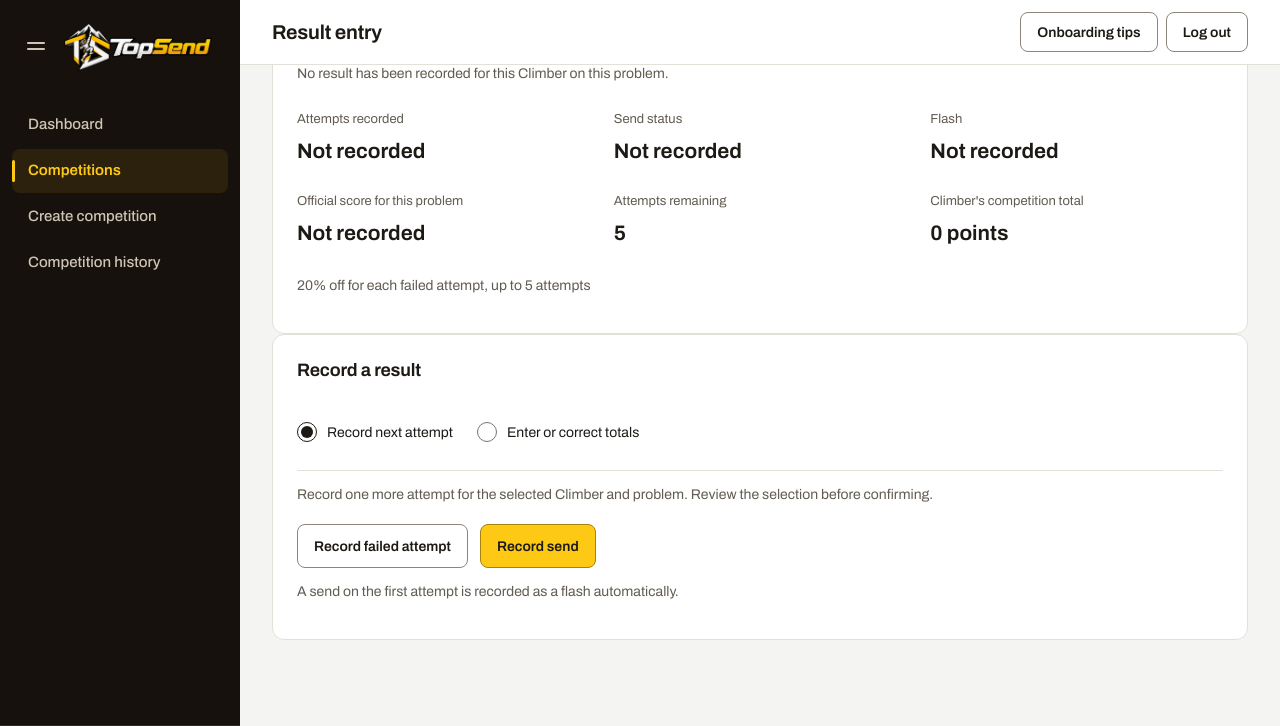
Test: US-019 #167/#168 official result selection and input › records one failed attempt and replaces the saved summary with the server response
This screenshot has width=1280, height=726.
(page scrolled)
Expected: the heading "Saved official result" is shown, [297,28,458,48]
Click the button "Record failed attempt" at (382, 546), box [297,524,468,568]
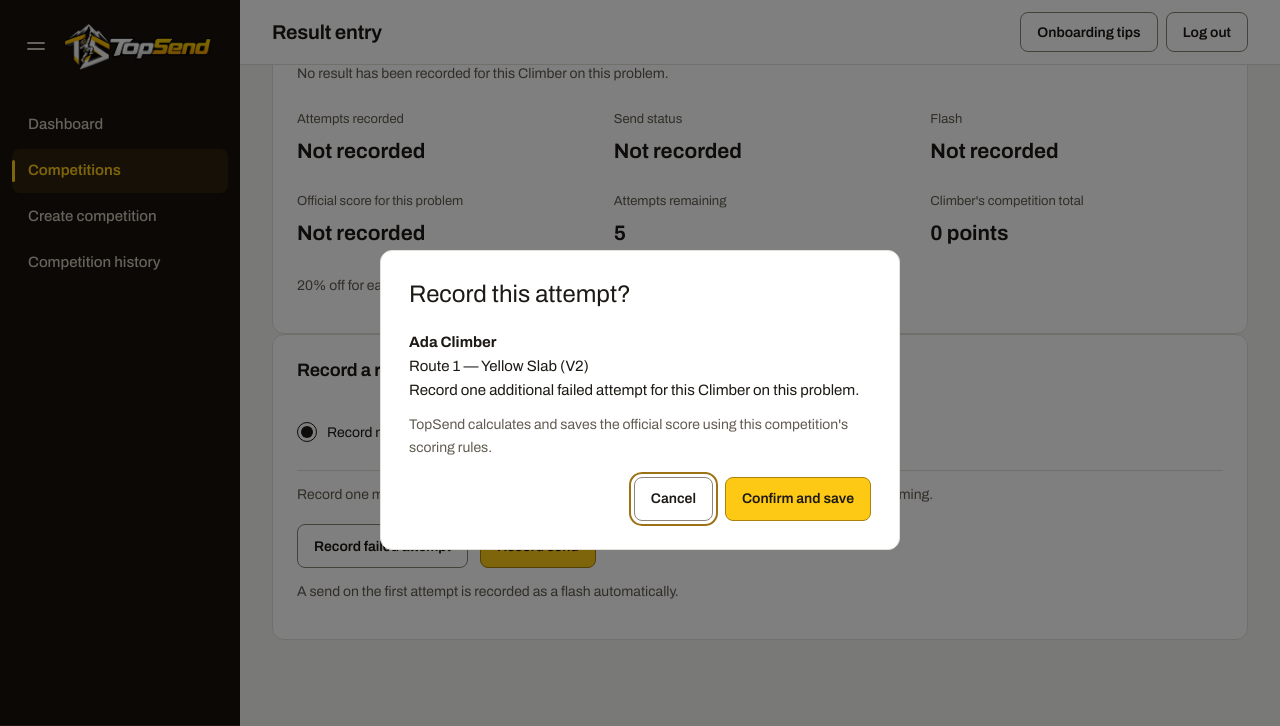
Click the button "Confirm and save" at (798, 499), box [725,477,871,521]
(page scrolled)
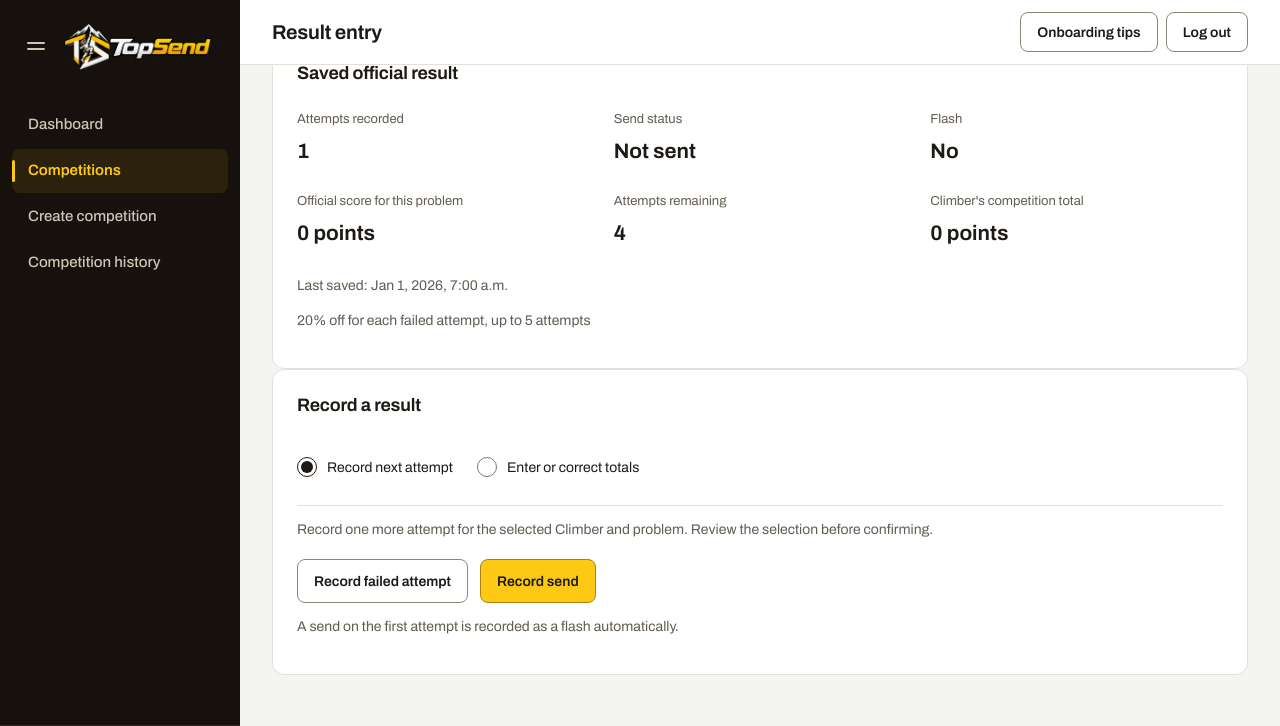
Now the text "Not sent" is shown, box [614,140,696,162]
Now the text "No result has been recorded" is gone
